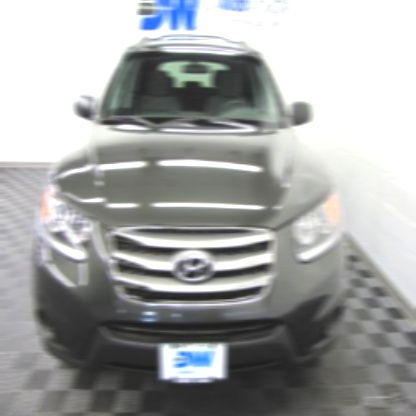Vehicle: (16, 10, 370, 397)
